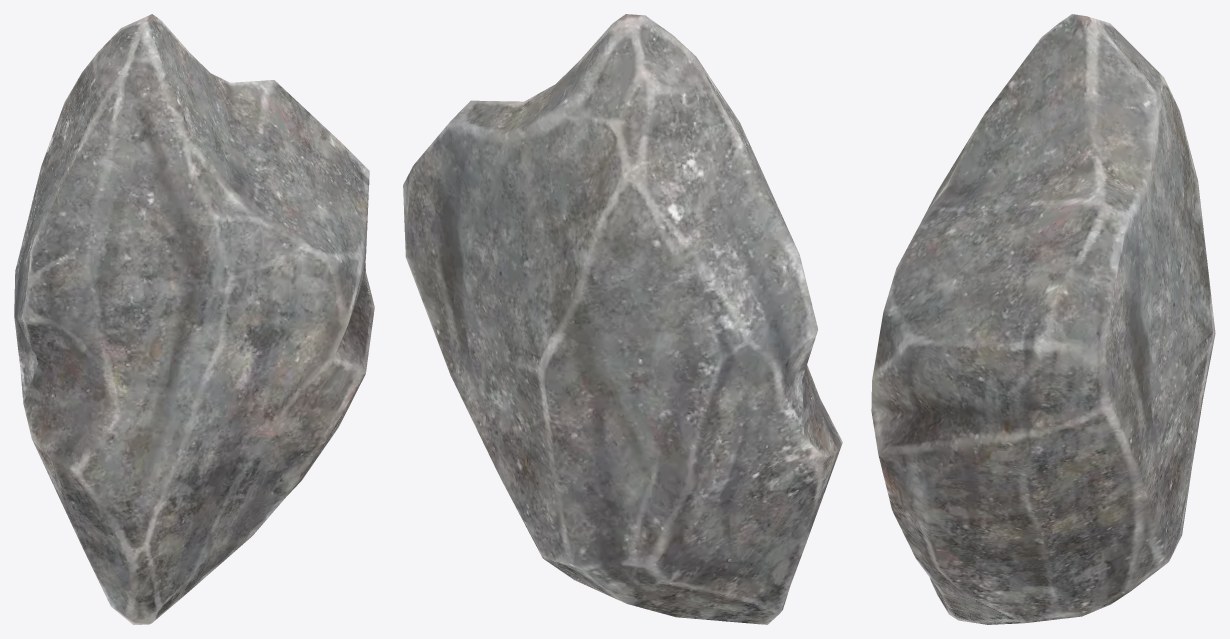
3 views of the same model, side by side, from view 1: azimuth 30°, elevation 25°; view 2: azimuth 150°, elevation 25°; view 3: azimuth 270°, elevation 25° (orthographic). The views are drawn at different scales.
Parts seen in each view (by area): view 1: SM_Rune_Essence_01v3_LOD0; view 2: SM_Rune_Essence_01v3_LOD0; view 3: SM_Rune_Essence_01v3_LOD0.
Part boxes in pixels (x1,y1,x2,y2): SM_Rune_Essence_01v3_LOD0: (14, 14, 374, 624); SM_Rune_Essence_01v3_LOD0: (403, 14, 842, 624); SM_Rune_Essence_01v3_LOD0: (871, 14, 1215, 624).
Bounding box in the file's own units: 0.9672 × 1.47 × 0.7211.
Materials: 1 (1 with a texture image).
